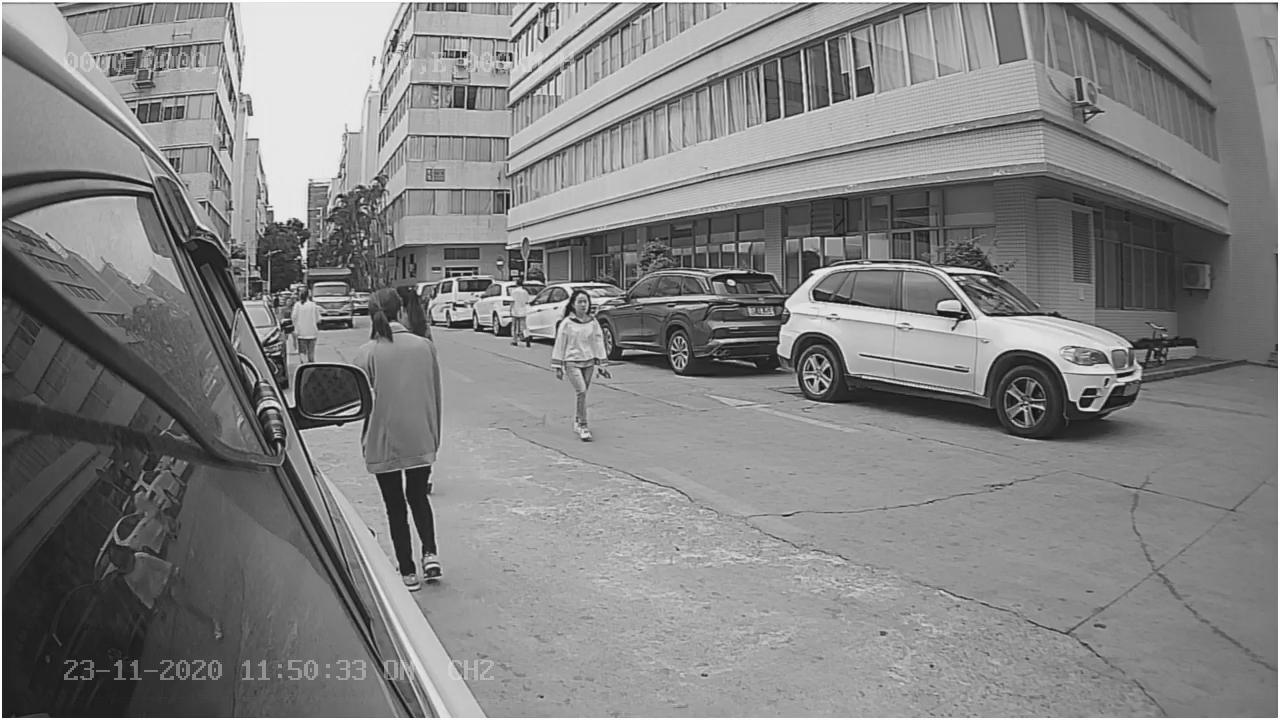person: (544, 287, 609, 445)
